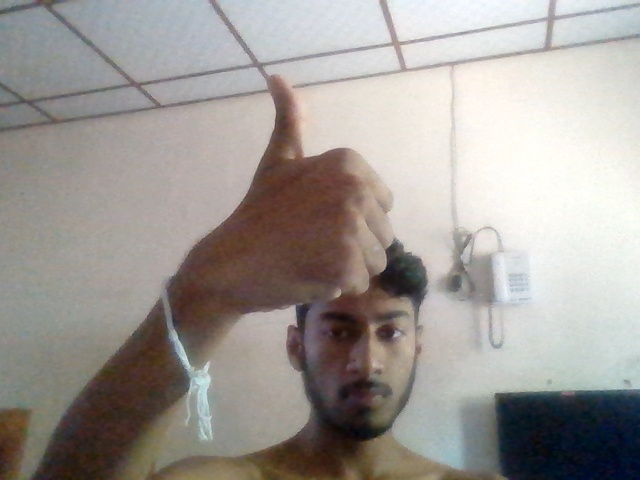ThumbsUp: (226, 75, 392, 319)
